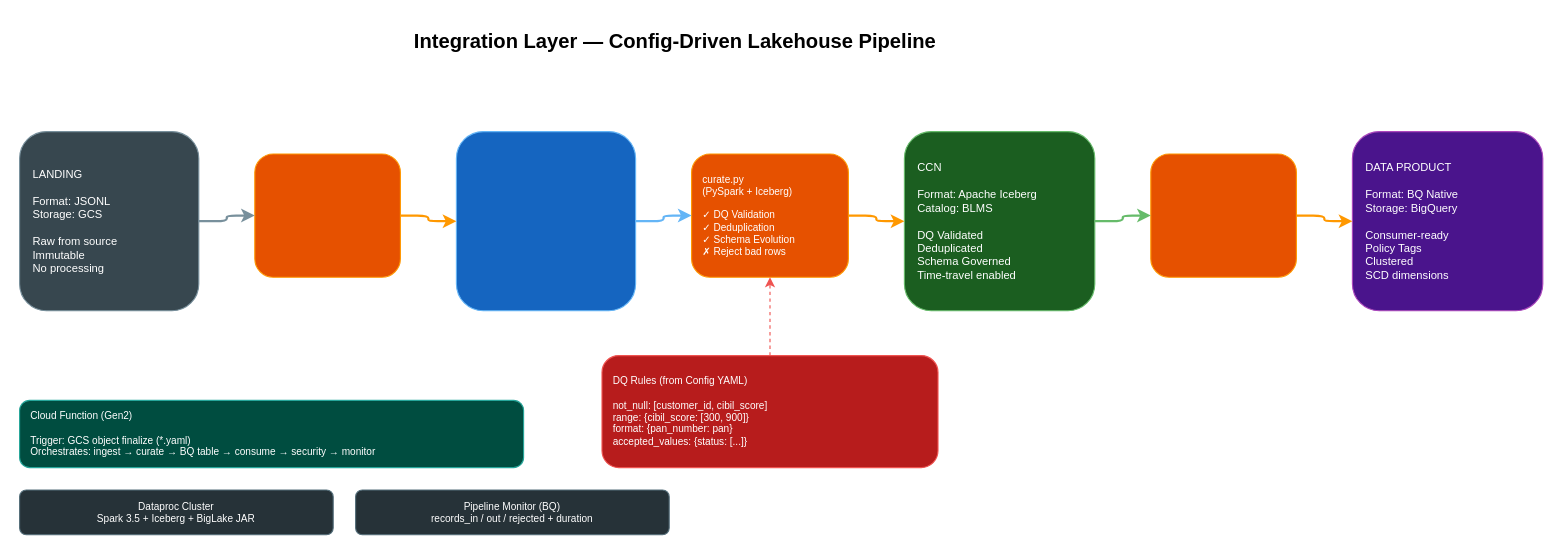
Some shapes in this 1562 by 554 pixel diagram are drawn without their labels. Each missing label, with the centre of its shape:
"consume.py (BigQuery SQL) Materialised joins Aggregations SCD dimensions" belongs at point (1223, 215).
"ingest.py (PySpark) + ingestion_ts + type overrides + schema-on-read" belongs at point (327, 215).
"RESERVOIR Format: Parquet Storage: GCS Typed Partitioned Schema-on-read" belongs at point (545, 220).
